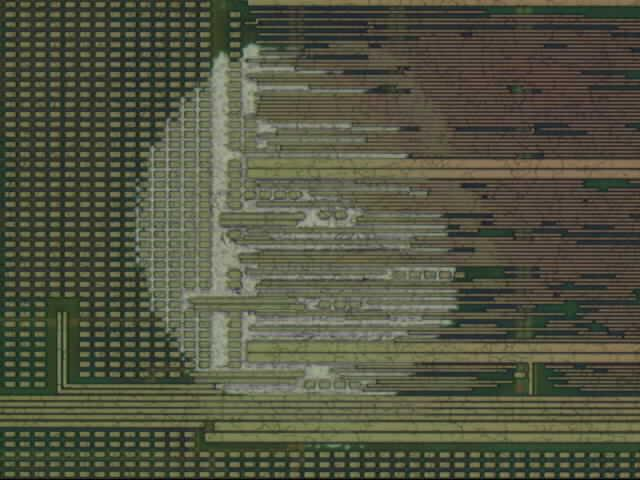BLOCK ETCH: (120, 35, 469, 424)
